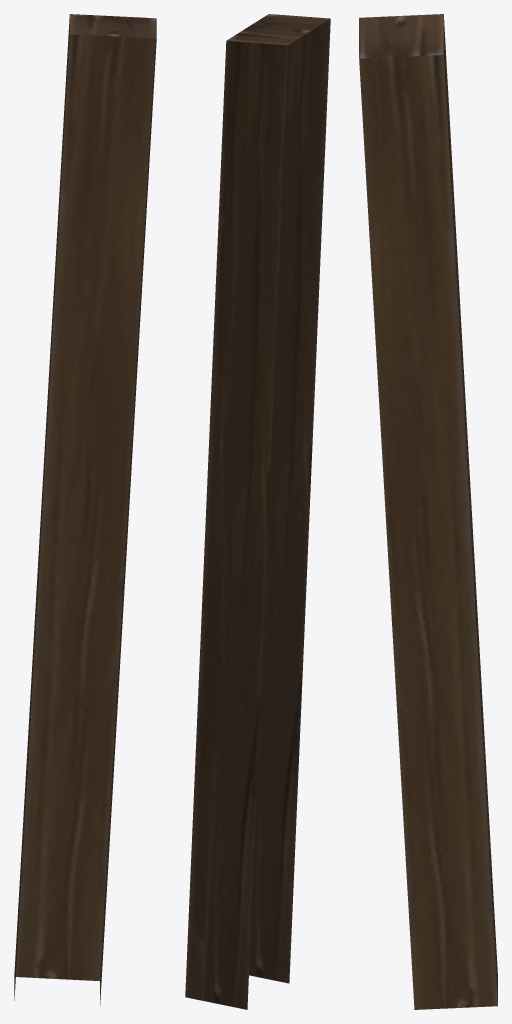
The model's file is 6002_Item_muban_9.FBX.
3 views of the same model, side by side, from view 1: azimuth 90°, elevation 25°; view 2: azimuth 150°, elevation 25°; view 3: azimuth 270°, elevation 25° (orthographic). The views are drawn at different scales.
Parts seen in each view (by area): view 1: 6002_Item_muban_9; view 2: 6002_Item_muban_9; view 3: 6002_Item_muban_9.
Part boxes in pixels (bbox=[...]): 6002_Item_muban_9: bbox=[14, 14, 156, 1005]; 6002_Item_muban_9: bbox=[185, 14, 330, 1009]; 6002_Item_muban_9: bbox=[359, 14, 497, 1009].
Size of the model in its own units: 36.19 by 432 by 56.58.
